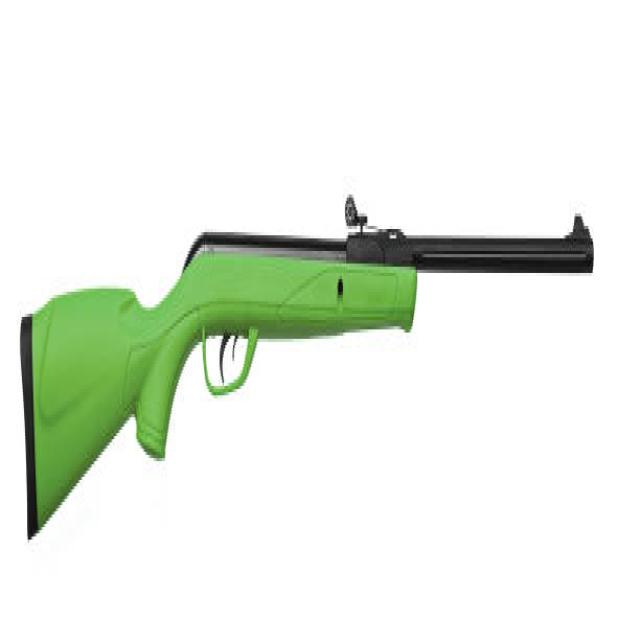rifle: (19, 197, 596, 549)
